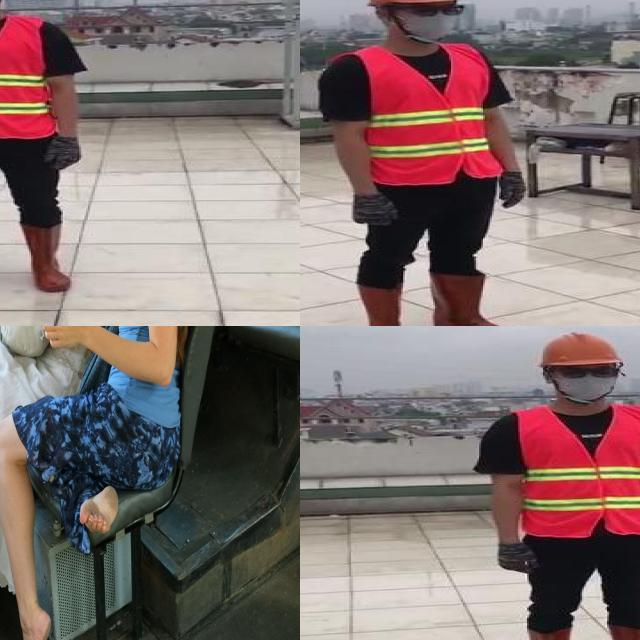Barefoots: (80, 486, 118, 534), (24, 608, 51, 640)
boots: (427, 270, 527, 326), (352, 281, 430, 326), (26, 223, 72, 294)
face_mask: (393, 0, 464, 43), (547, 365, 621, 402)
glasses: (389, 0, 471, 21), (554, 364, 621, 382)
hand_glove: (344, 193, 405, 230), (492, 543, 542, 577), (494, 168, 529, 208), (47, 138, 81, 171)
head_helmet: (535, 328, 626, 369), (360, 0, 459, 10)
person: (311, 0, 531, 326), (473, 329, 640, 640), (0, 0, 109, 293)
vest: (338, 45, 504, 187), (518, 403, 640, 535), (0, 21, 52, 139)
